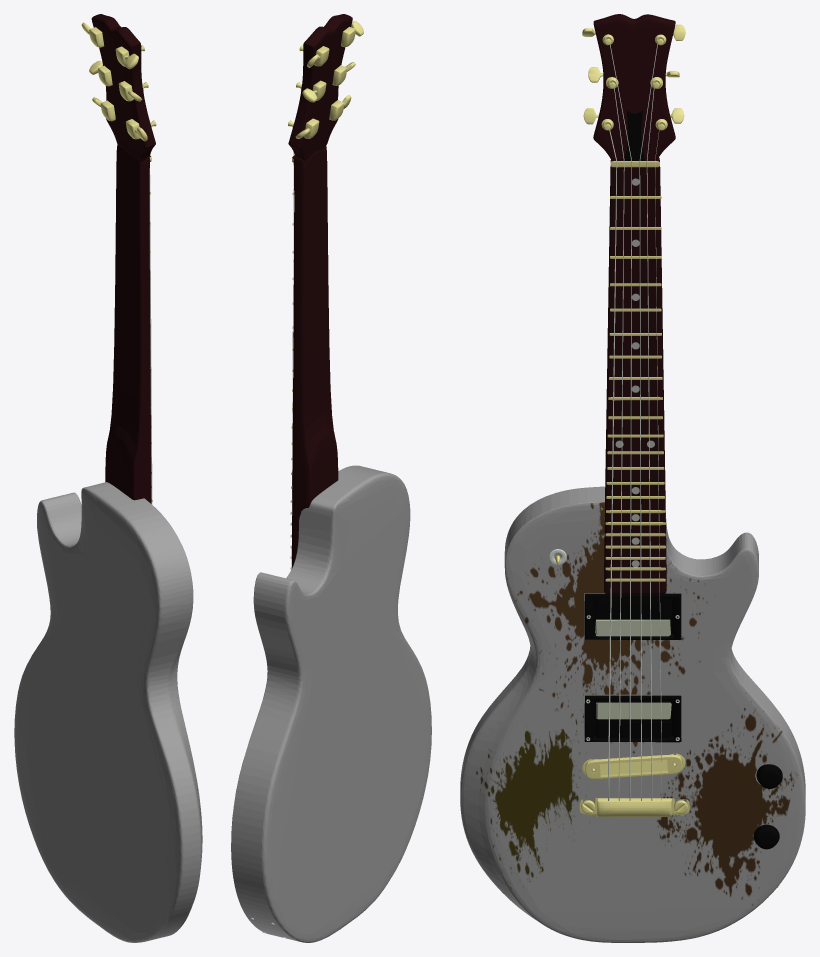
File: _uitar1.fbx
The picture shows the model from 3 angles, left to right: view 1: azimuth 30°, elevation 25°; view 2: azimuth 150°, elevation 25°; view 3: azimuth 270°, elevation 25°; orthographic projection. The views are drawn at different scales.
Visible parts, largest first — view 1: Body, neck, head, tuning_keys, strings; view 2: Body, neck, head, tuning_keys; view 3: Body, neck, head, screws, strings, bridge, tuning_keys, Controls.
Part boxes in pixels (left/top/right/bottom): Body: left=14, top=482, right=202, bottom=942; neck: left=105, top=144, right=152, bottom=503; head: left=91, top=14, right=155, bottom=161; tuning_keys: left=81, top=22, right=156, bottom=141; strings: left=143, top=91, right=152, bottom=504; Body: left=231, top=465, right=431, bottom=942; neck: left=290, top=145, right=338, bottom=569; head: left=288, top=14, right=352, bottom=160; tuning_keys: left=288, top=21, right=363, bottom=138; Body: left=460, top=486, right=805, bottom=942; neck: left=604, top=157, right=666, bottom=593; head: left=593, top=14, right=675, bottom=160; screws: left=584, top=593, right=779, bottom=909; strings: left=608, top=43, right=661, bottom=800; bridge: left=579, top=753, right=689, bottom=816; tuning_keys: left=582, top=24, right=685, bottom=130; Controls: left=549, top=549, right=782, bottom=849.
Size of the model in its own units: 51.08 by 919 by 313.
